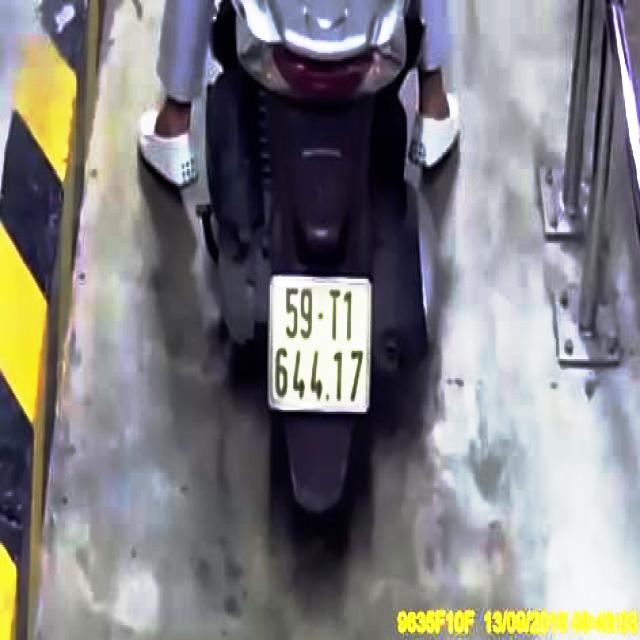license_plate: (271, 279, 372, 416)
